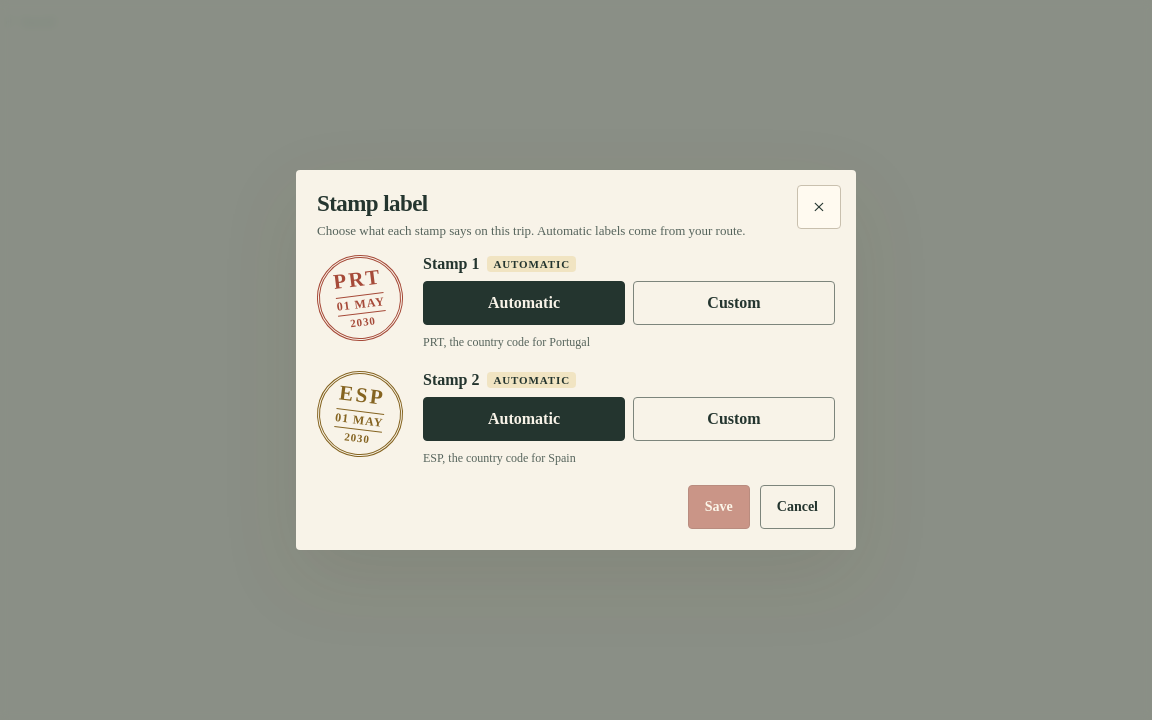
it: EditStampSheet › Save is off until something changes
expect the button "Save" is disabled: met, box [688,485,750,529]
Click the 1st radio button labelled "Custom" at (734, 303), box [633,281,835,325]
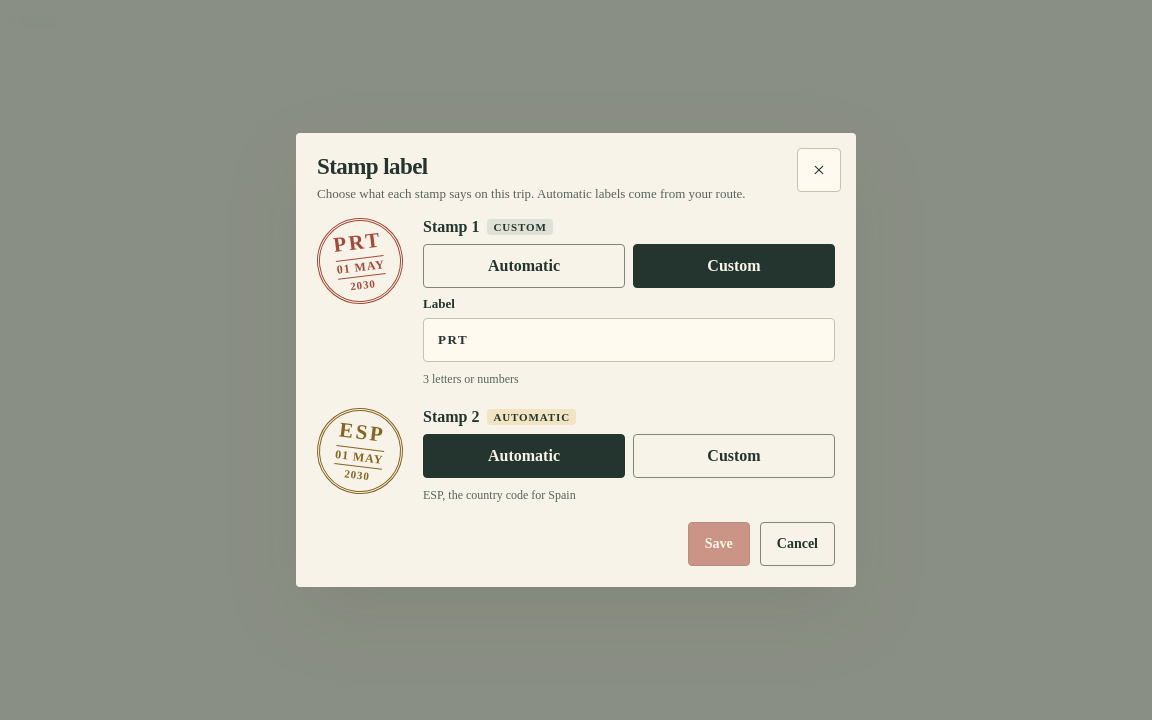
expect the button "Save" is disabled: met, box [688,522,750,566]
expect the field labelled "Label" holds "PRT": met
Replace the text in the field labelled "Label" with "xyz" at (629, 340), box [423,318,835,362]
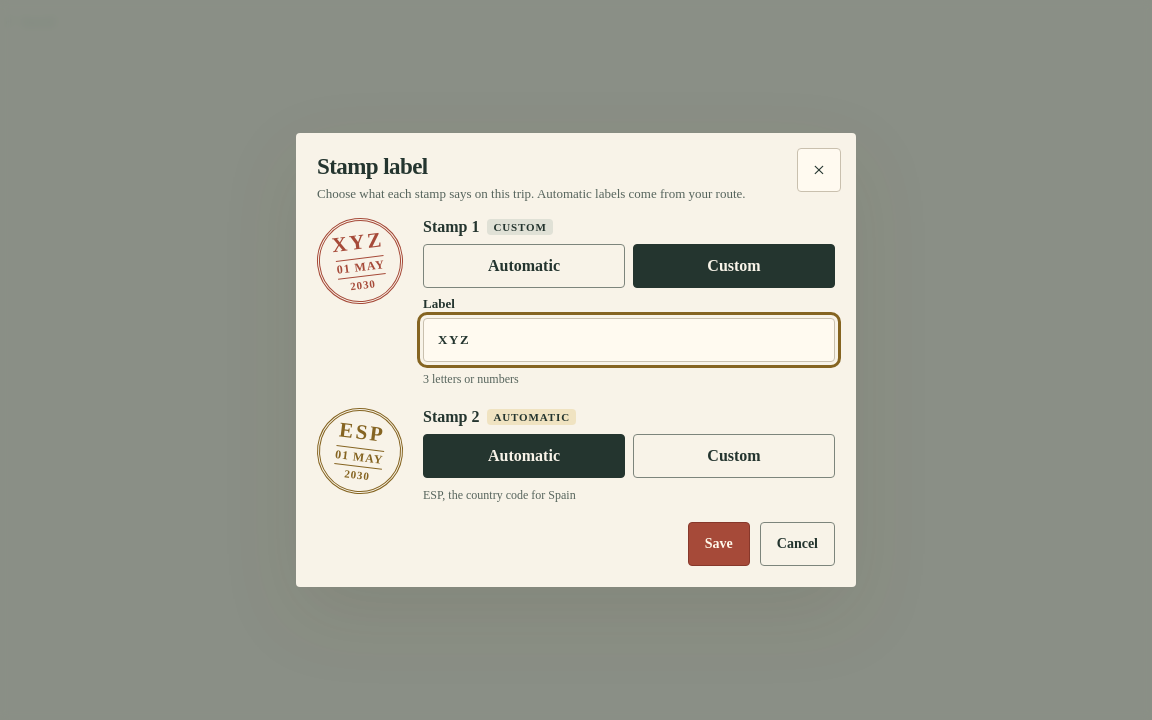
expect the button "Save" is enabled: met, box [688,522,750,566]
